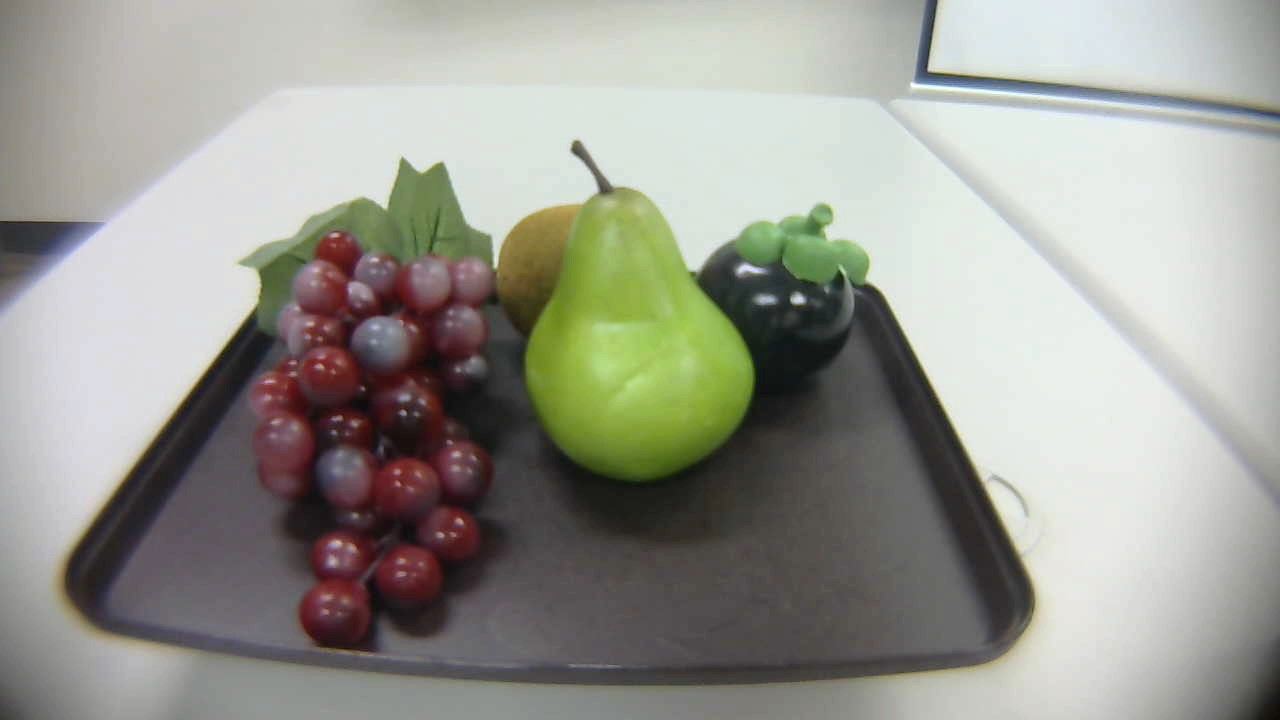grape: (233, 151, 500, 659)
green pear: (518, 134, 763, 496)
kiwi fruit: (495, 199, 588, 328)
mangosteen: (692, 197, 892, 393)
